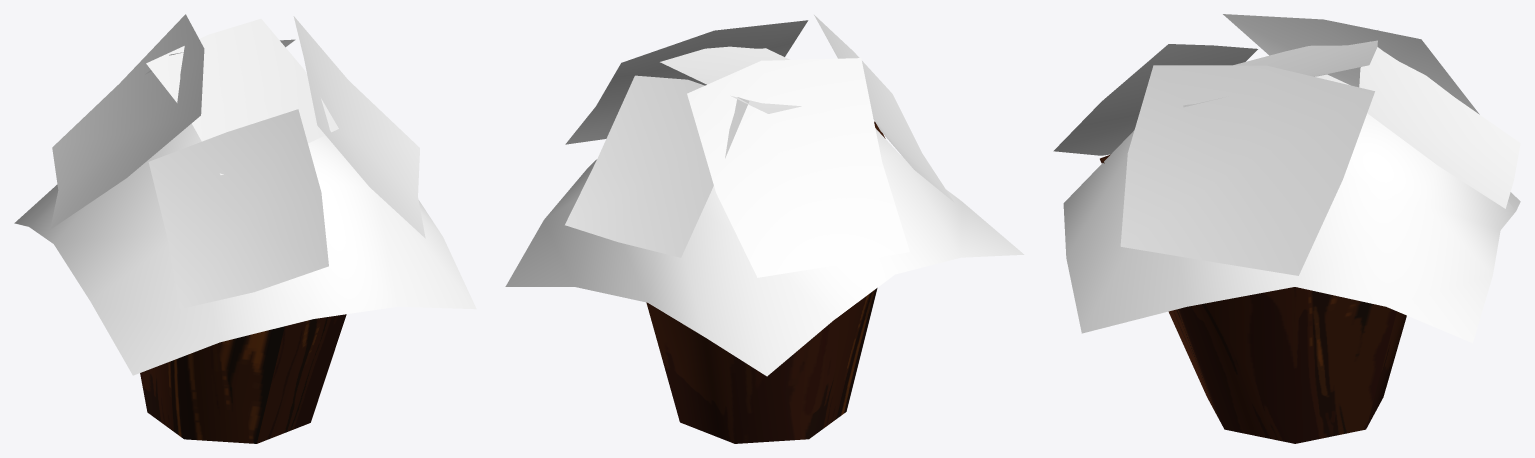
The model's file is SM_PROP_PLANT_pot_v2_02.fbx.
3 renders of one model, left to right at view 1: azimuth 30°, elevation 25°; view 2: azimuth 150°, elevation 25°; view 3: azimuth 270°, elevation 25°, orthographic. The views are drawn at different scales.
Visible parts, largest first — view 1: SM_PROP_PLANT_pot_v2_02; view 2: SM_PROP_PLANT_pot_v2_02; view 3: SM_PROP_PLANT_pot_v2_02.
Boxes of the visible parts, bbox=[...] form: SM_PROP_PLANT_pot_v2_02: bbox=[14, 14, 476, 443]; SM_PROP_PLANT_pot_v2_02: bbox=[505, 15, 1024, 443]; SM_PROP_PLANT_pot_v2_02: bbox=[1053, 14, 1520, 443].
Bounding box in the file's own units: 76.67 × 70.45 × 78.79.
